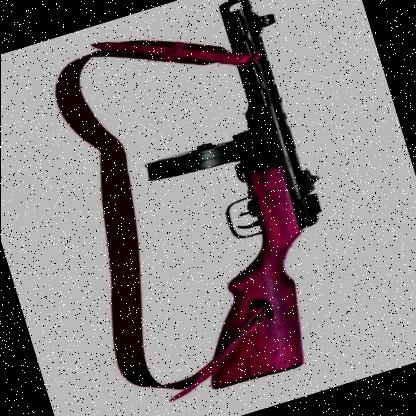rifle: (90, 0, 376, 396)
